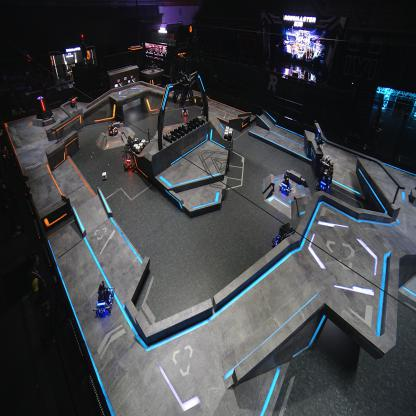car: (271, 221, 296, 254), (94, 280, 115, 316), (316, 156, 334, 194), (121, 140, 138, 171), (278, 172, 292, 195), (108, 122, 118, 136), (180, 103, 188, 118)
